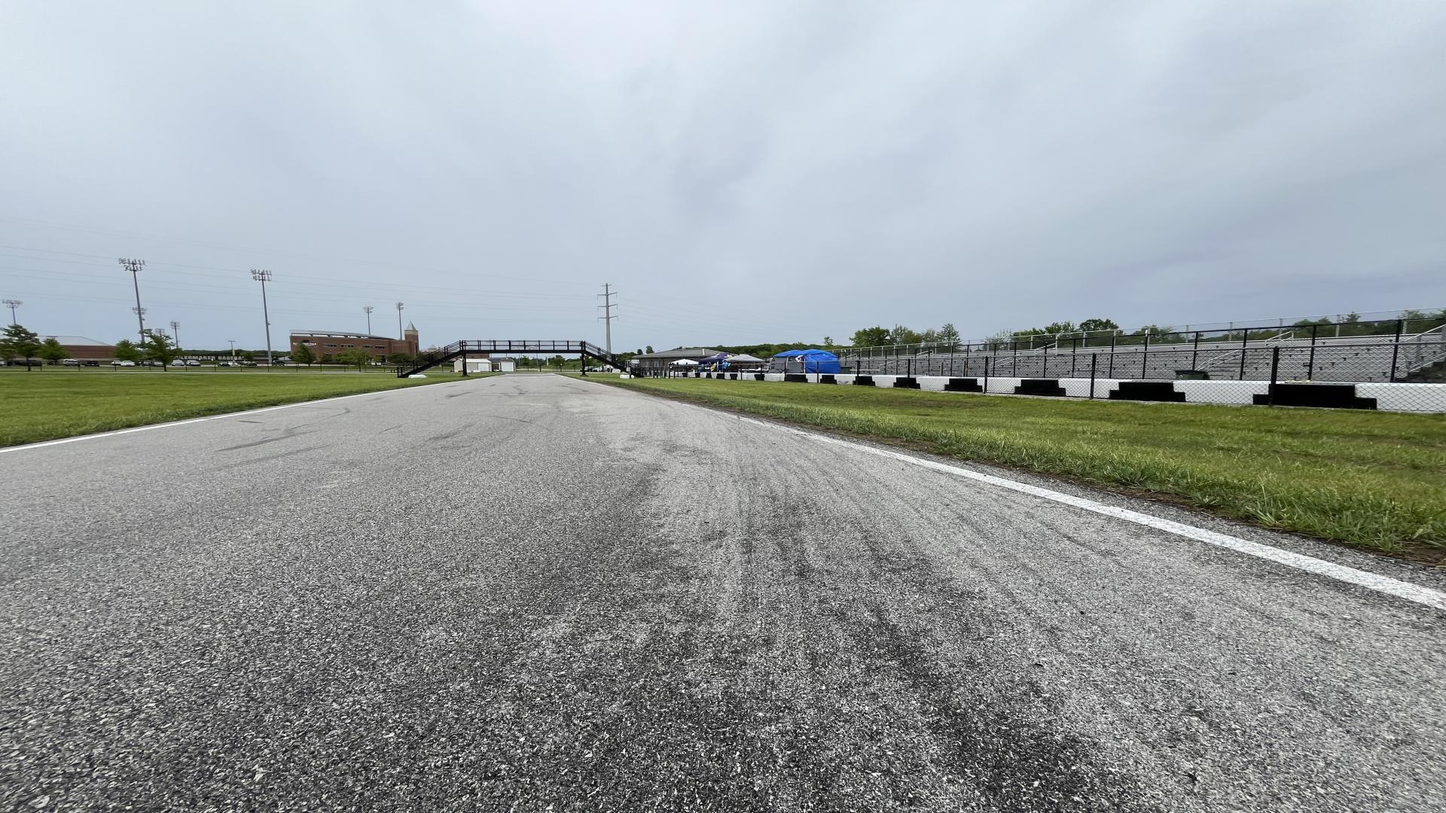white-line: (705, 409, 1445, 607), (215, 383, 444, 419), (0, 420, 202, 452), (566, 377, 609, 388), (485, 374, 508, 378), (552, 373, 564, 376), (625, 391, 636, 393)
